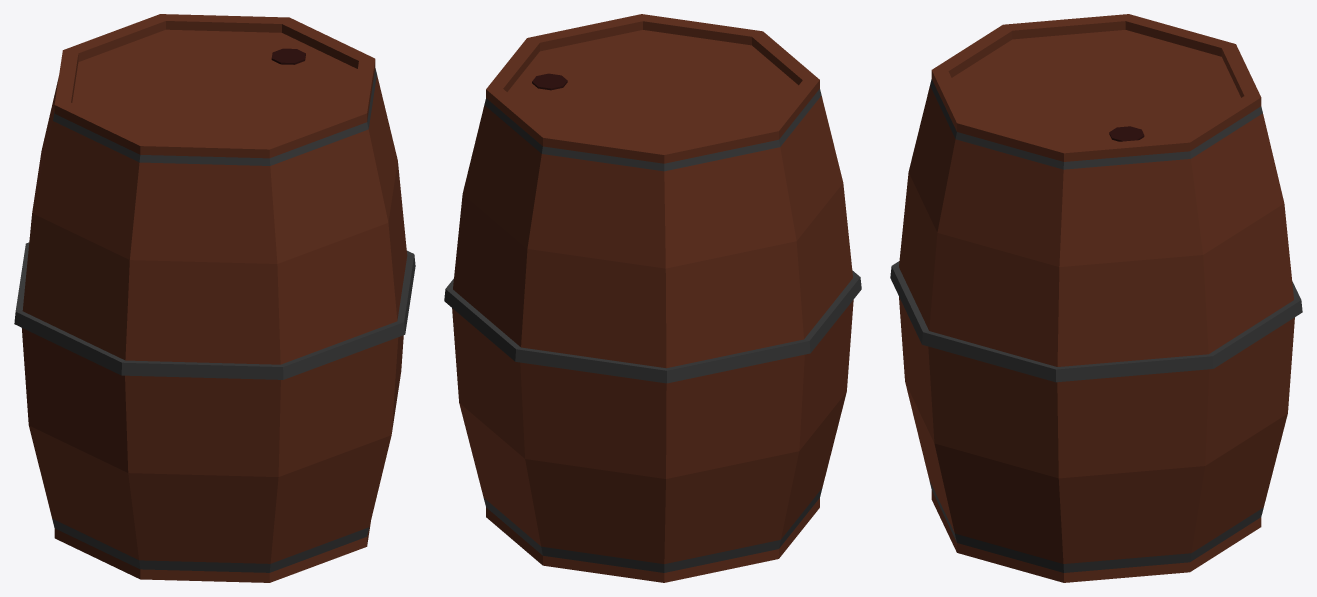
File: barrel.fbx
3 renders of one model, left to right at view 1: azimuth 30°, elevation 25°; view 2: azimuth 150°, elevation 25°; view 3: azimuth 270°, elevation 25°, orthographic.
Visible parts, largest first — view 1: Barrel.001; view 2: Barrel.001; view 3: Barrel.001.
Part boxes in pixels (x1,y1,x2,y2): Barrel.001: [14, 14, 415, 582]; Barrel.001: [444, 14, 861, 582]; Barrel.001: [890, 14, 1302, 582].
Bounding box in the file's own units: 245 × 282 × 245.
